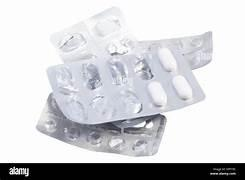pill_Strip: (48, 47, 204, 123), (50, 7, 212, 68), (36, 94, 165, 155), (50, 7, 134, 61), (151, 46, 204, 109), (151, 46, 204, 108), (132, 32, 212, 69), (138, 31, 212, 68), (140, 32, 211, 68), (84, 7, 134, 56), (50, 22, 100, 61), (83, 7, 128, 44), (138, 31, 212, 53), (182, 46, 210, 68), (93, 17, 120, 36), (147, 81, 167, 106), (59, 33, 86, 51), (172, 75, 192, 99), (158, 48, 177, 72), (134, 56, 153, 79), (158, 48, 177, 71)
